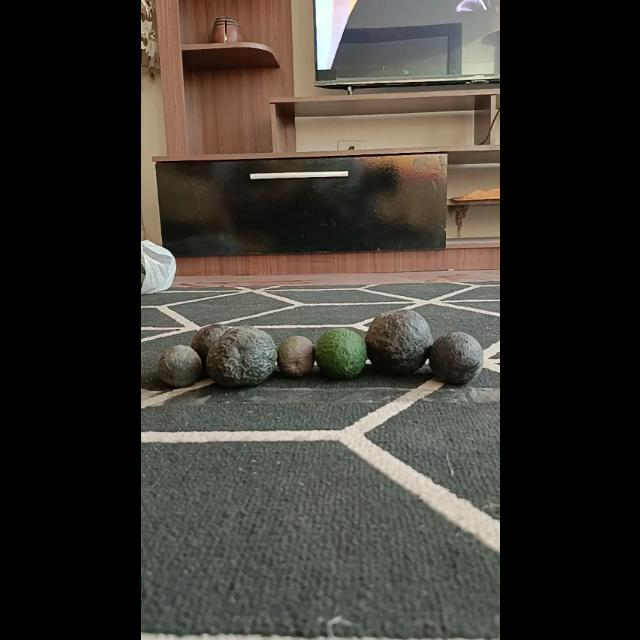Primera: (363, 308, 432, 374), (205, 325, 277, 387)
Segunda: (428, 331, 482, 385), (314, 328, 366, 378)
Tercera: (157, 344, 201, 388), (276, 335, 314, 377)
